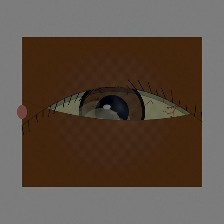corneal_ulcer: (72, 98, 132, 145)
